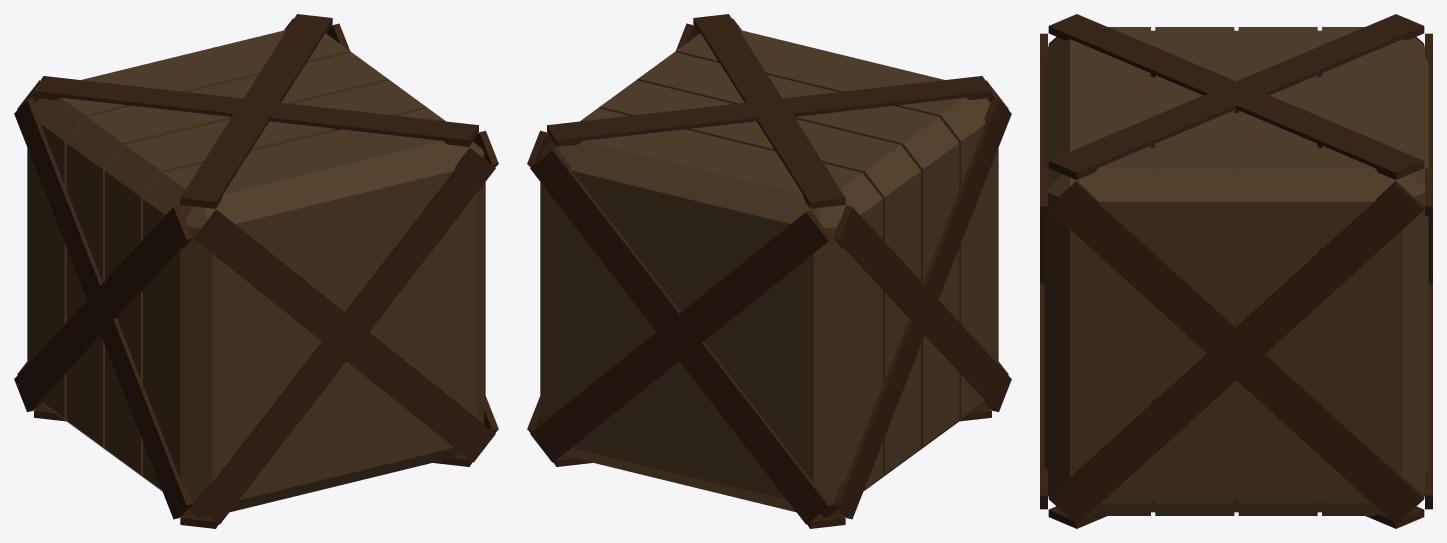
File: Box_Planked.fbx
3 renders of one model, left to right at view 1: azimuth 30°, elevation 25°; view 2: azimuth 150°, elevation 25°; view 3: azimuth 270°, elevation 25°, orthographic. The views are drawn at different scales.
Visible parts, largest first — view 1: Box_Planked_Sides, Planks_Side1, Planks_Side0, Planks_Side2; view 2: Box_Planked_Sides, Planks_Side1, Planks_Side0, Planks_Side2; view 3: Box_Planked_Sides, Planks_Side0, Planks_Side2, Planks_Side1.
Boxes of the visible parts, x1,y1,x2,y2 form: Box_Planked_Sides: (27,30,485,517); Planks_Side1: (17,18,495,524); Planks_Side0: (14,23,498,519); Planks_Side2: (34,14,478,528); Box_Planked_Sides: (540,30,998,517); Planks_Side1: (530,18,1008,524); Planks_Side0: (527,23,1011,519); Planks_Side2: (547,14,991,528); Box_Planked_Sides: (1044,27,1428,515); Planks_Side0: (1048,37,1424,524); Planks_Side2: (1048,14,1424,528); Planks_Side1: (1040,33,1432,509).
Bounding box in the file's own units: 104 × 104 × 104.
